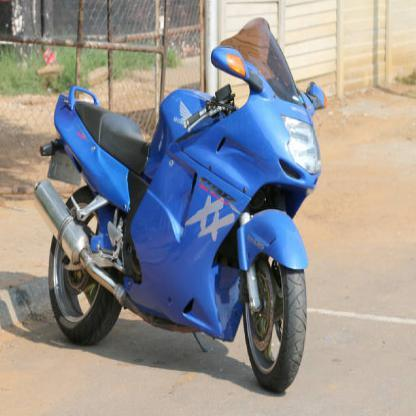Motorcycle: (26, 12, 332, 394)
